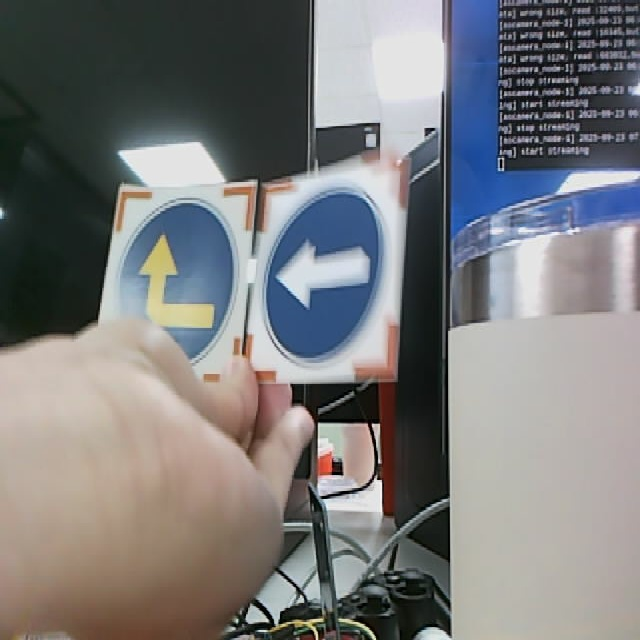right: (102, 185, 254, 392)
straight: (243, 153, 410, 382)
